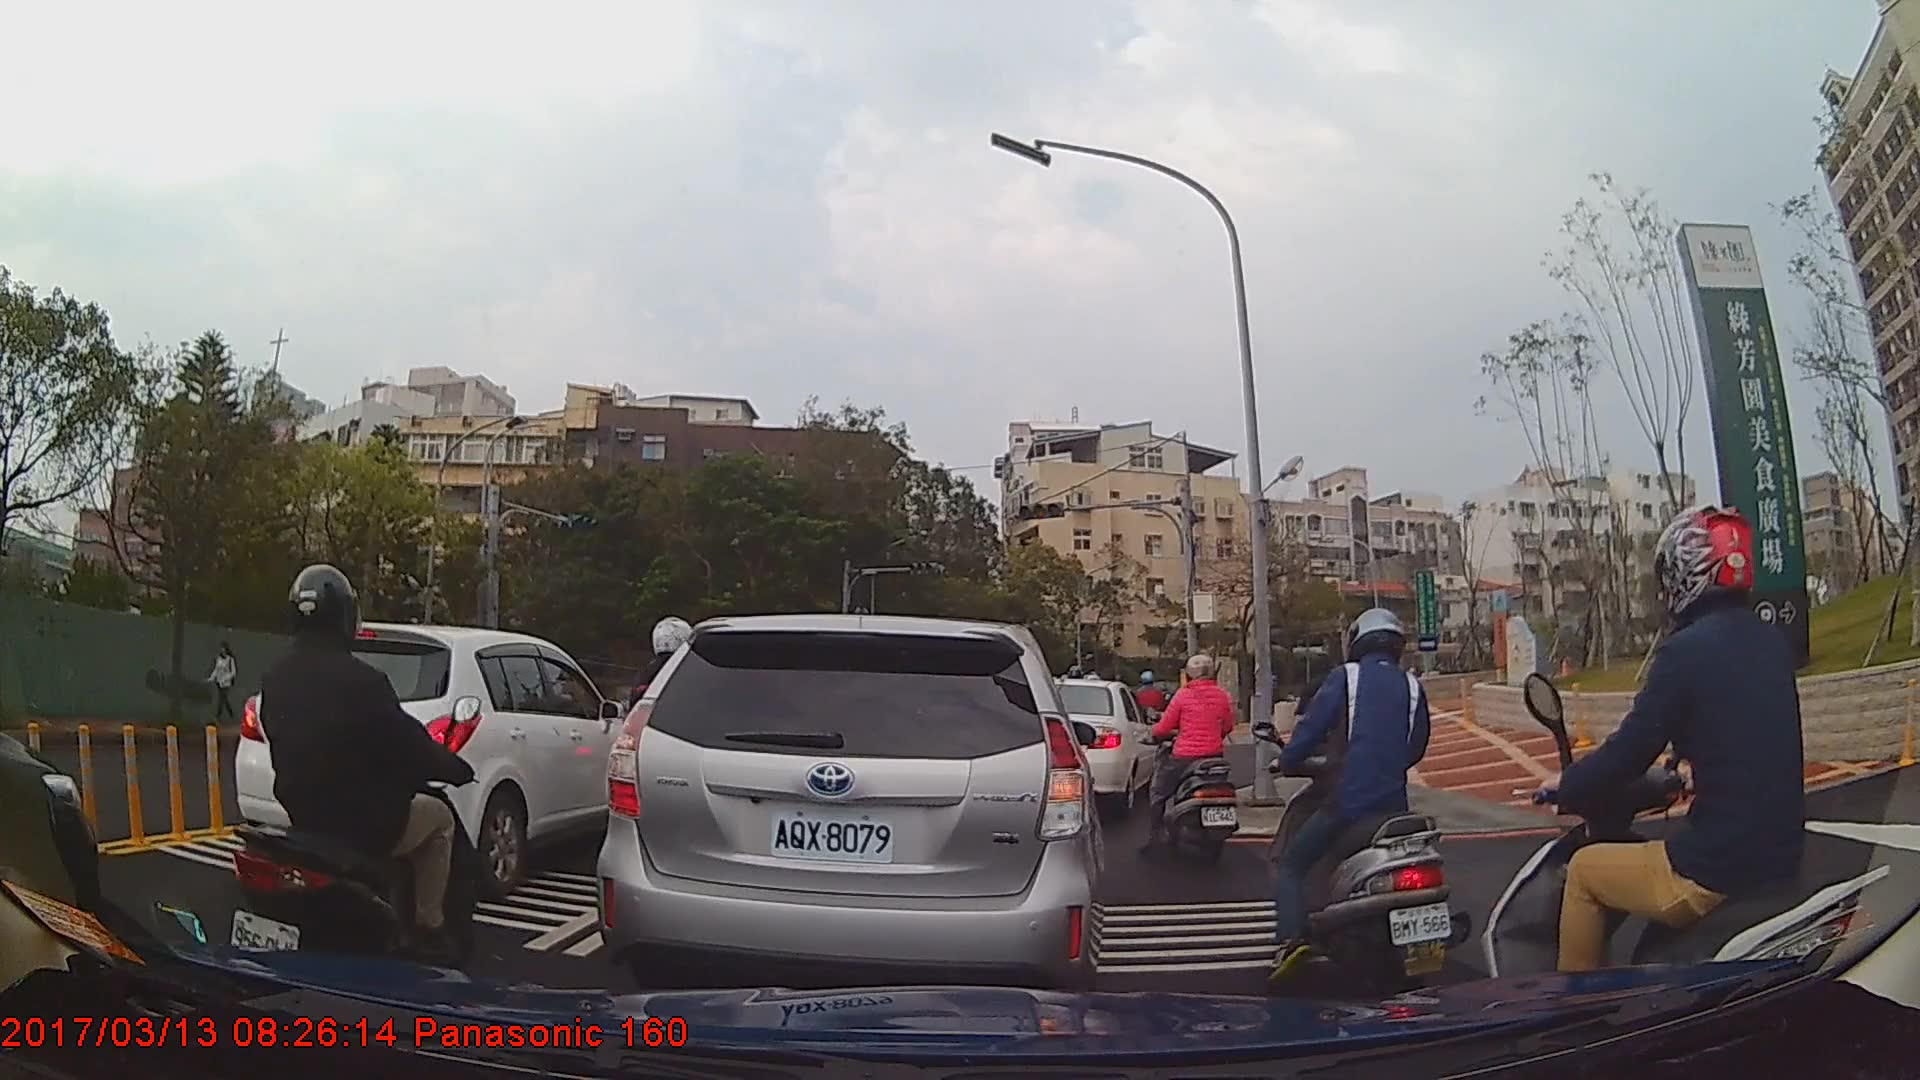pedestrian: (206, 643, 242, 722)
rider: (1478, 506, 1893, 1057), (227, 564, 491, 1017), (1261, 607, 1458, 994), (1133, 652, 1242, 865)
vehicle: (595, 613, 1105, 1000), (251, 619, 636, 890), (1049, 678, 1157, 812)
